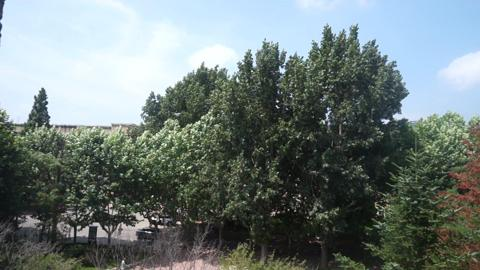UAV: (174, 113, 181, 117)
